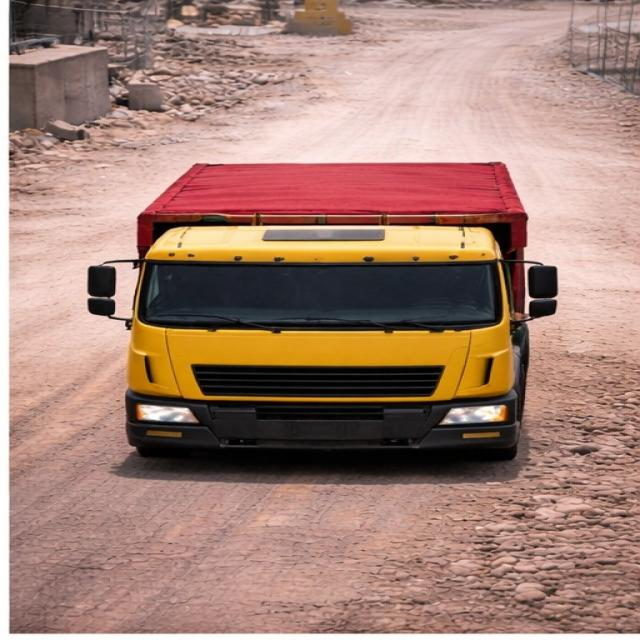Box: (133, 160, 523, 217)
Truck: (76, 148, 570, 470)
